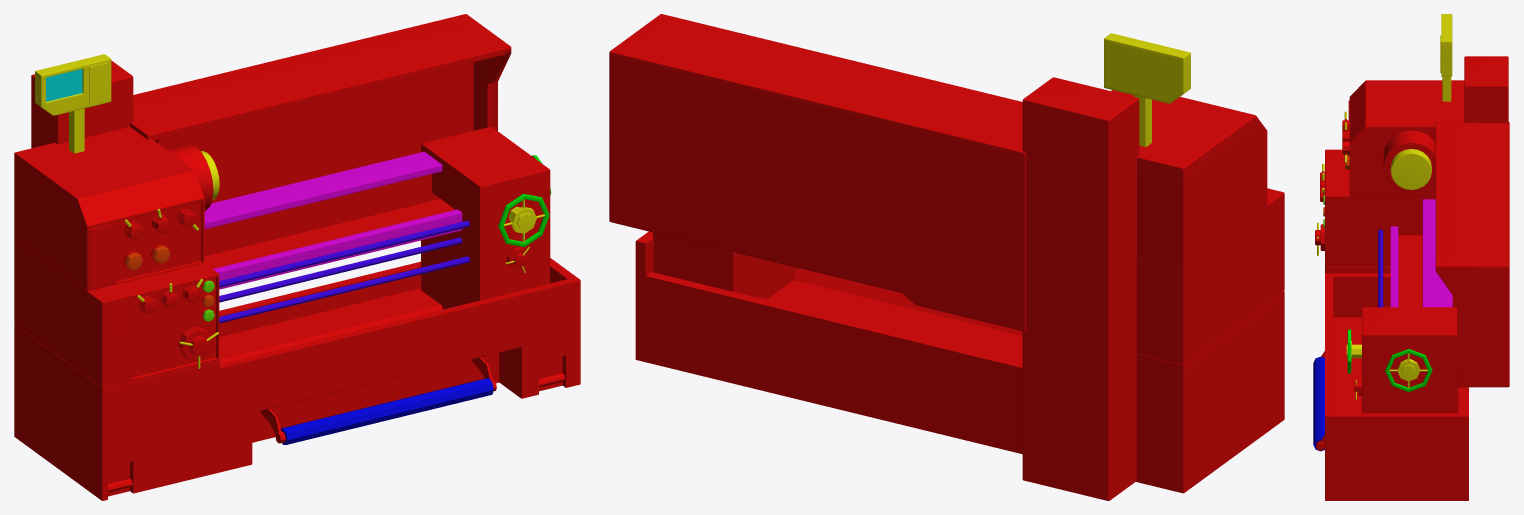
Rendered from Lathe_Strong_Hannah.fbx.
The picture shows the model from 3 angles, left to right: view 1: azimuth 30°, elevation 25°; view 2: azimuth 150°, elevation 25°; view 3: azimuth 270°, elevation 25°; orthographic projection. The views are drawn at different scales.
Visible parts, largest first — view 1: metalLathe; view 2: metalLathe; view 3: metalLathe.
Part boxes in pixels (x1=…): metalLathe: x1=14, y1=14, x2=580, y2=500; metalLathe: x1=609, y1=14, x2=1284, y2=500; metalLathe: x1=1313, y1=14, x2=1509, y2=500.
Size of the model in its own units: 2.68 by 1.95 by 1.15.
